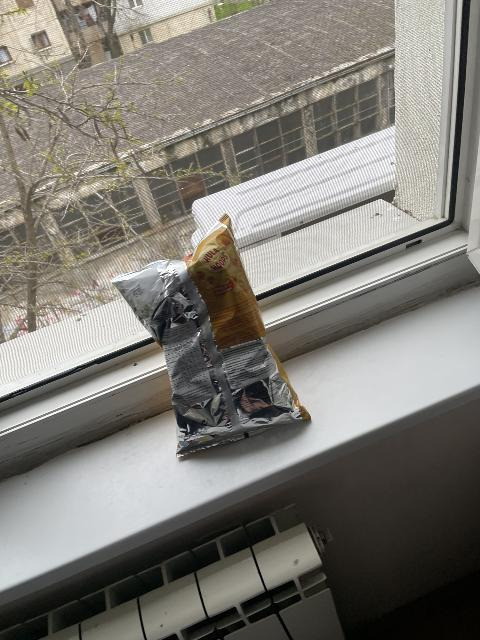Chio Hula Hoops Cheese 70g: (110, 213, 311, 462)
